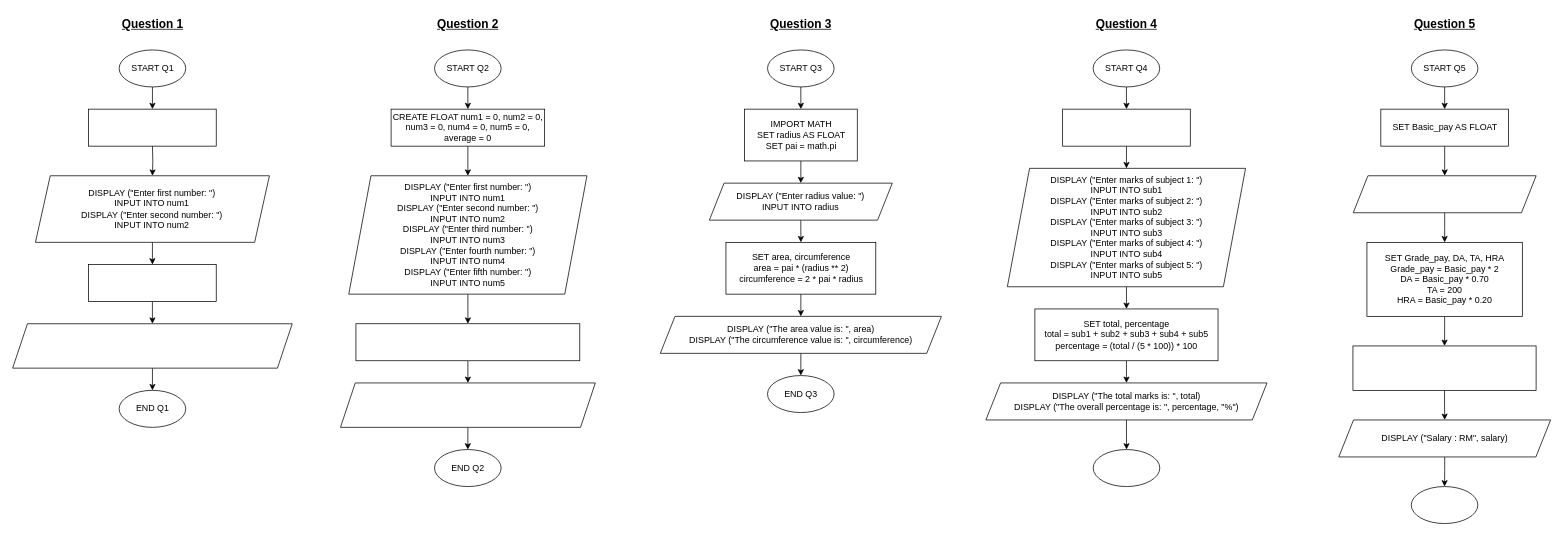
The diagram is 1564 pixels wide and 537 high, and some of its shapes have lost their labels. The centre of each missing label's shape, as x and y in pixels:
average = (num1 + num2 + num3 + num4 + num5) / 5: pixel 467 342
CREATE INTEGER num1 = 0, num2 = 0, sum =0: pixel 152 127
DISPLAY ("Basic Pay: RM") INPUT INTO Basic_pay: pixel 1444 194
DISPLAY ("The average of the two given numbers is: " + average): pixel 467 404
DISPLAY ("The sum of the two given numbers is: " + sum): pixel 152 345
END Q4: pixel 1126 468
END Q5: pixel 1444 505
SET salary salary = Grade_pay + DA + TA + HRA: pixel 1444 367
SET sub1, sub2, sub3, sub4, sub5 AS FLOAT: pixel 1126 127
sum = num1 + num2: pixel 152 283
